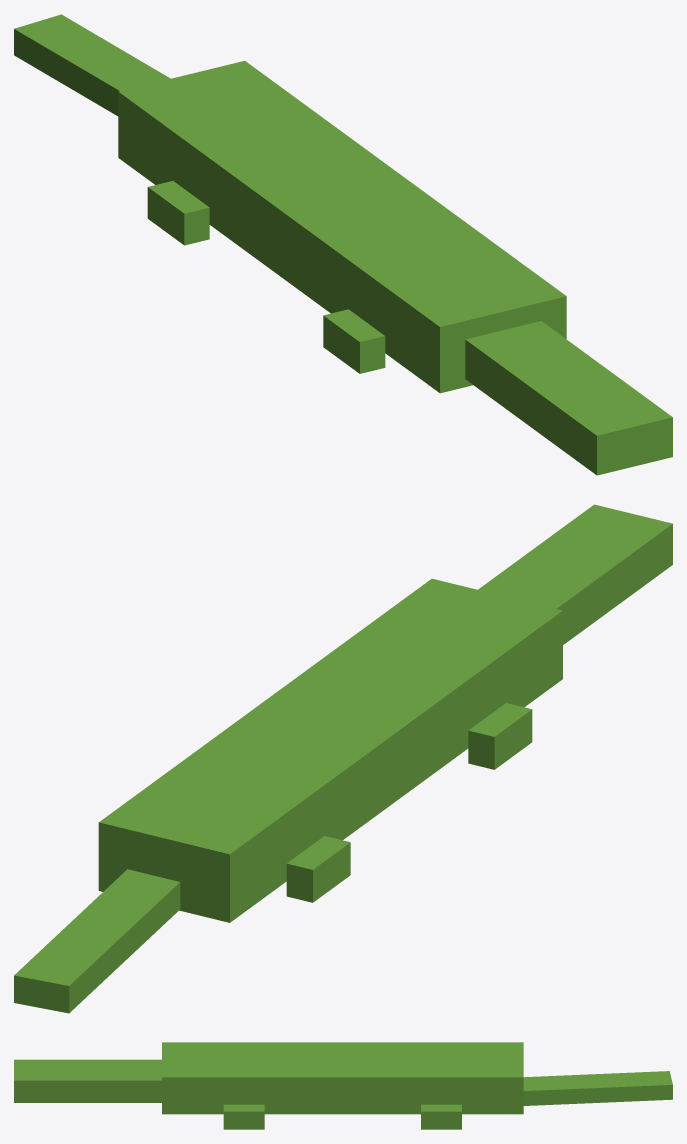
The model's file is crocodile.glb.
3 renders of one model, top to bottom at view 1: azimuth 30°, elevation 25°; view 2: azimuth 150°, elevation 25°; view 3: azimuth 270°, elevation 25°, orthographic. The views are drawn at different scales.
Visible parts, largest first — view 1: crocodile; view 2: crocodile; view 3: crocodile.
Boxes of the visible parts, bbox=[...] form: crocodile: bbox=[14, 14, 672, 475]; crocodile: bbox=[14, 504, 672, 1013]; crocodile: bbox=[14, 1042, 672, 1129].
Size of the model in its own units: 0.7 by 0.305 by 4.01.
